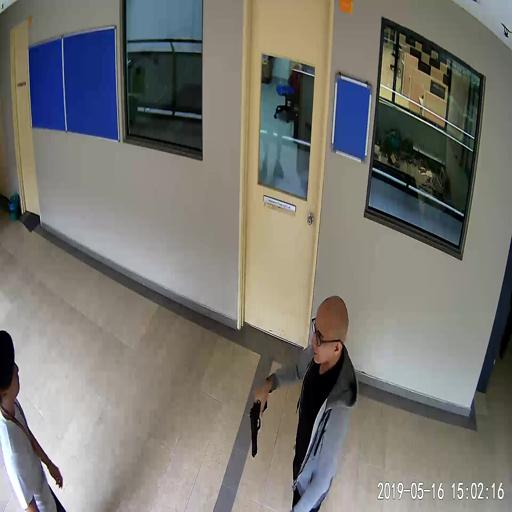pistol: (249, 395, 267, 456)
